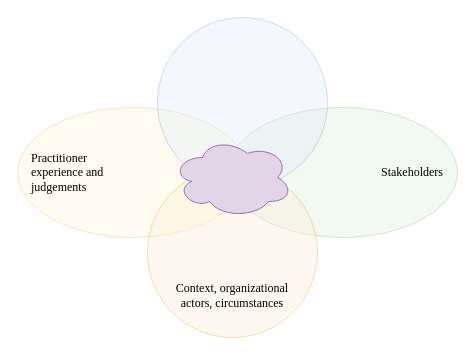
This 475x355 diagram has some shape labels left out. Each missing label, with the box of its shape:
Decision: (172, 136, 292, 218)
Evaluated external evidence: (156, 16, 328, 188)
